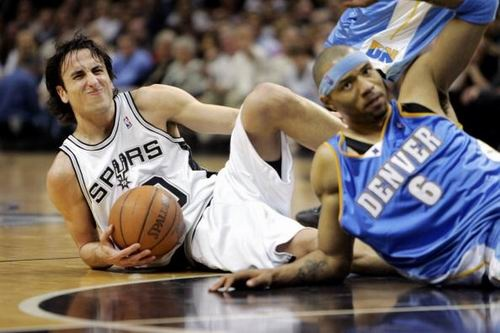falling: (295, 38, 500, 290)
